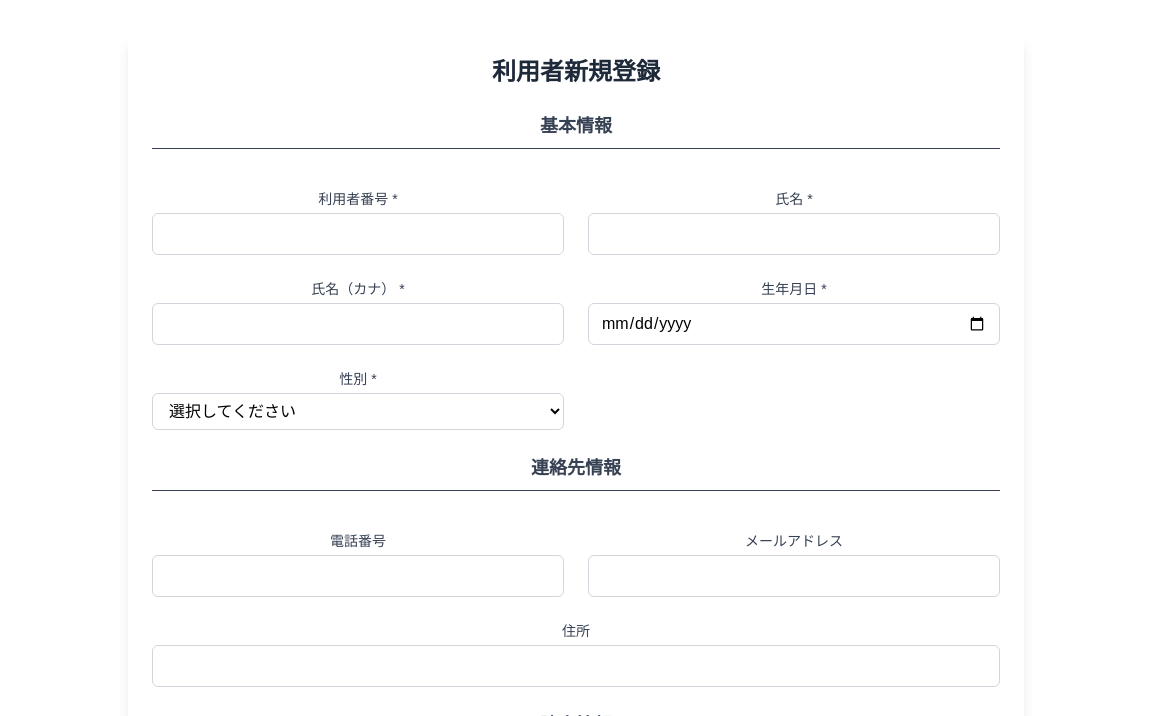
ClientForm › バリデーション › メールアドレスの形式が不正な場合エラーが表示される
Type "invalid-email" into the field labelled "メールアドレス" at (794, 576), box [588,555,1000,597]
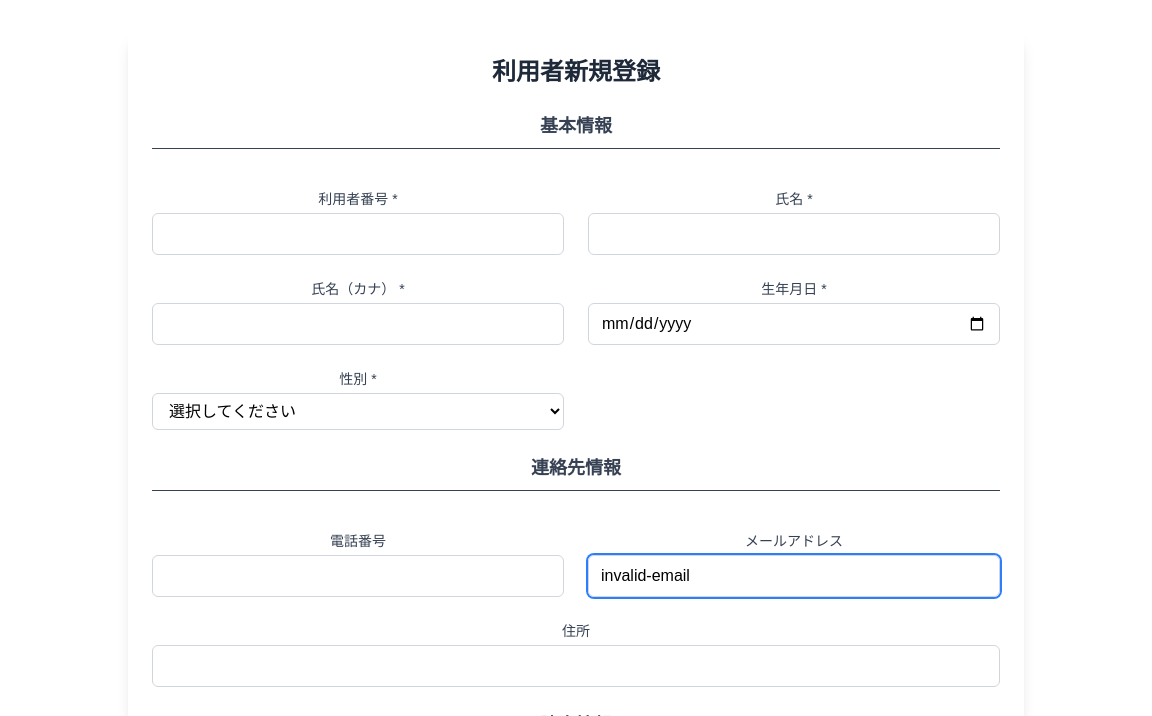
Press Tab
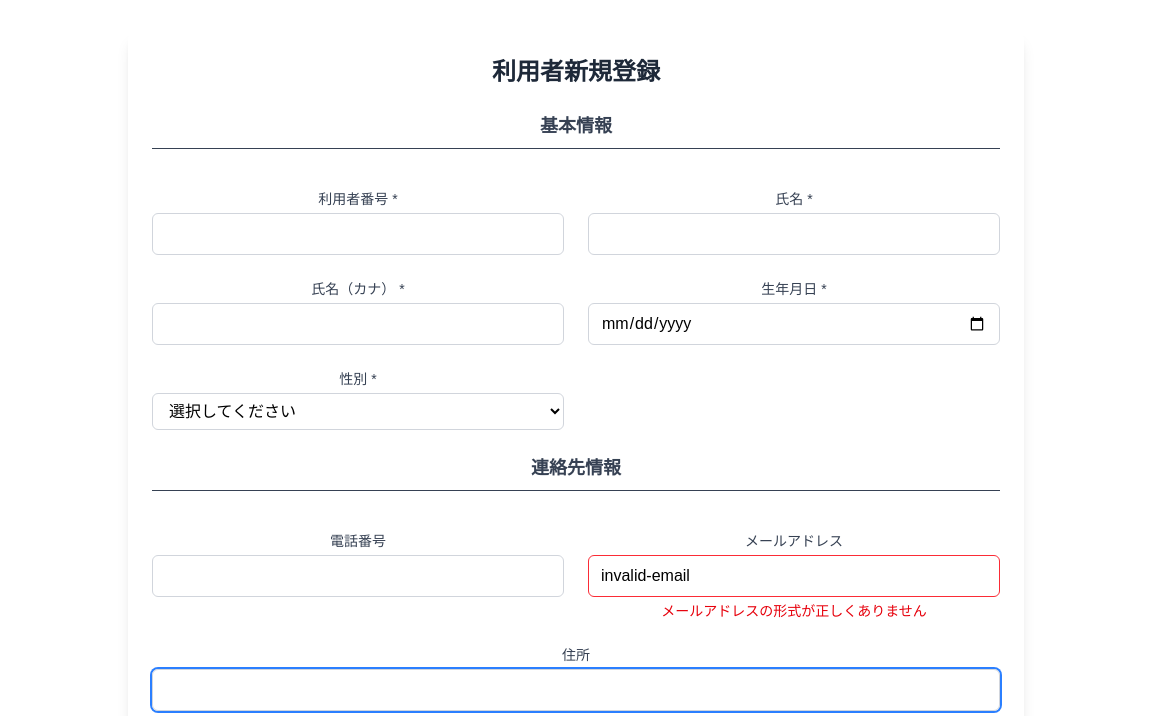
Now the text "メールアドレスの形式が正しくありません" is shown, box [661,603,927,619]
